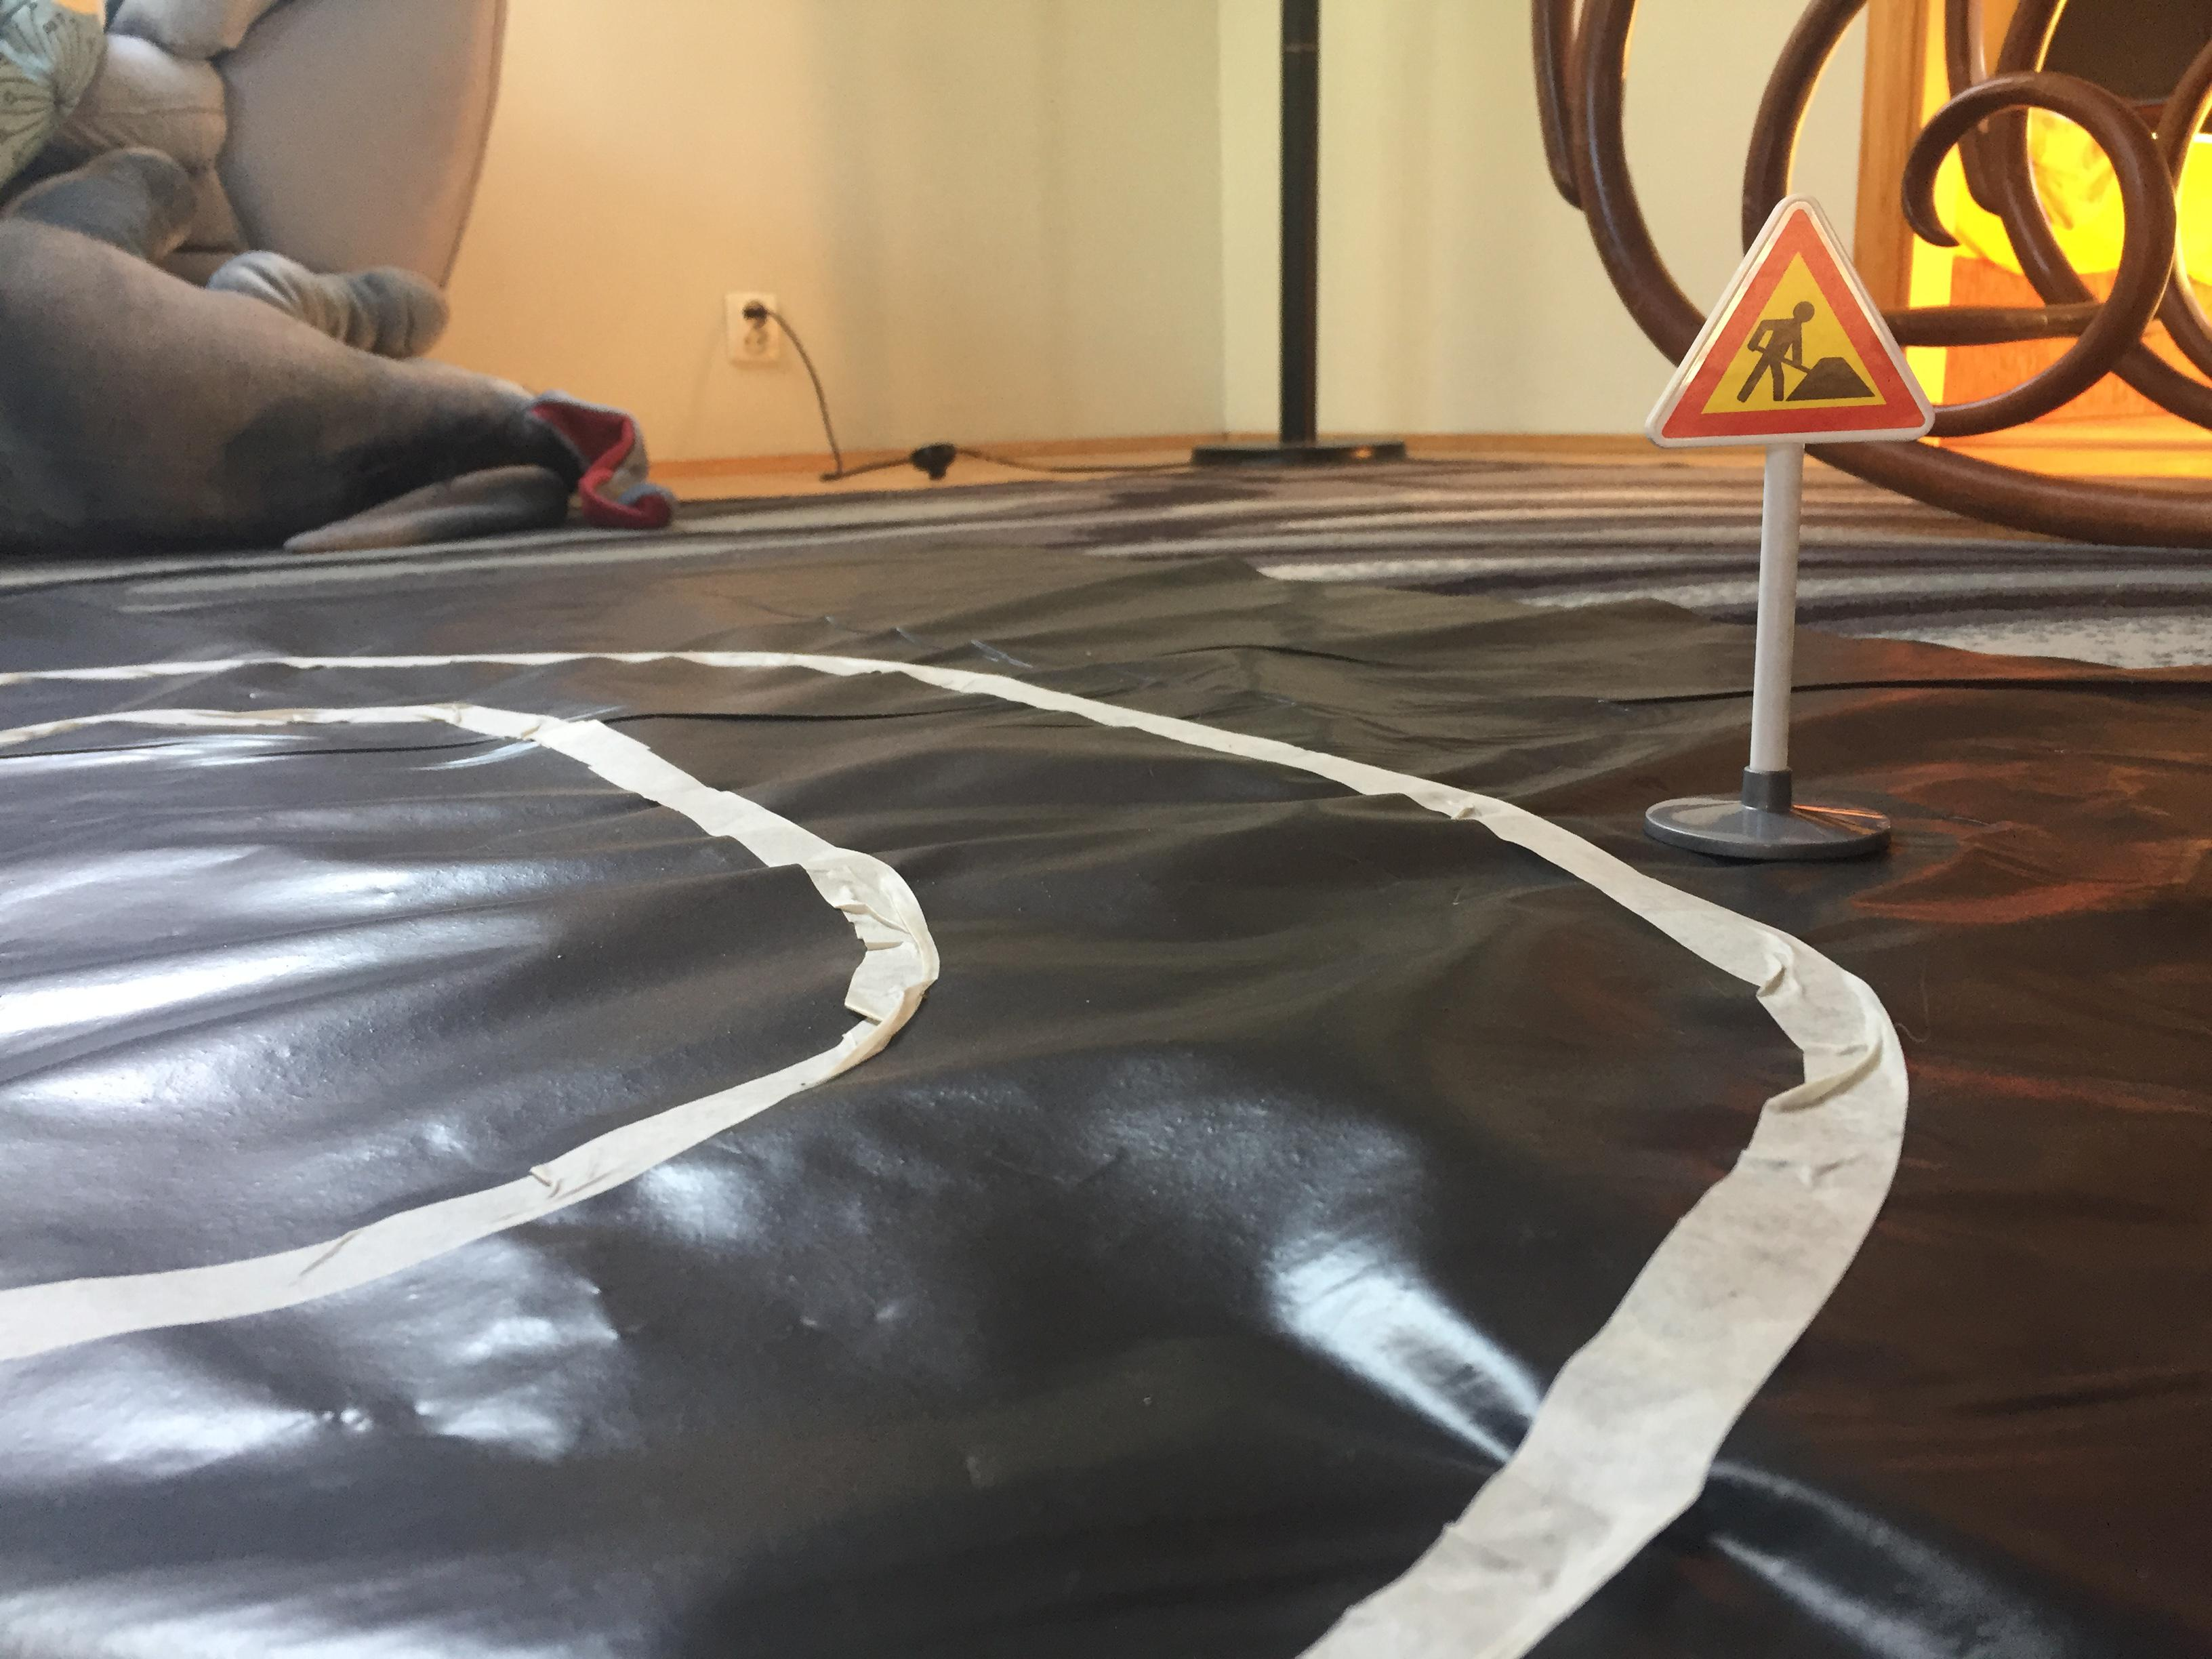work: (1629, 179, 1966, 458)
